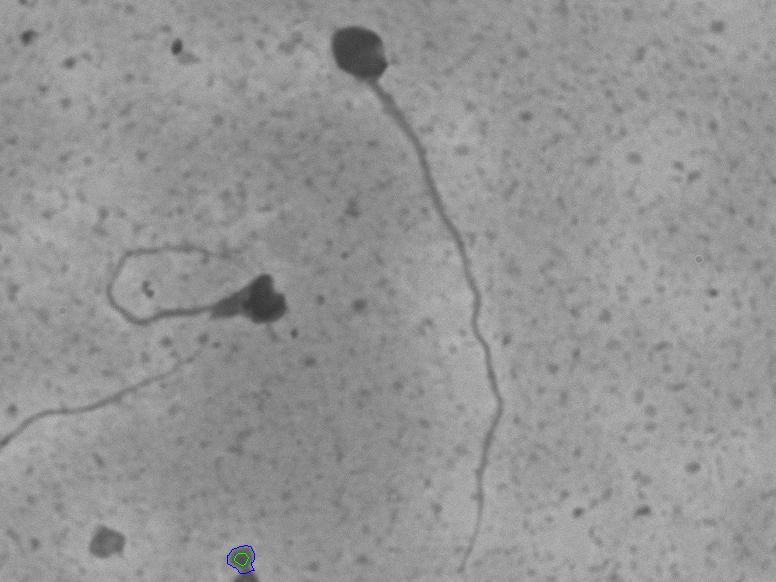Abnormal: (318, 23, 527, 574), (77, 230, 304, 341)
